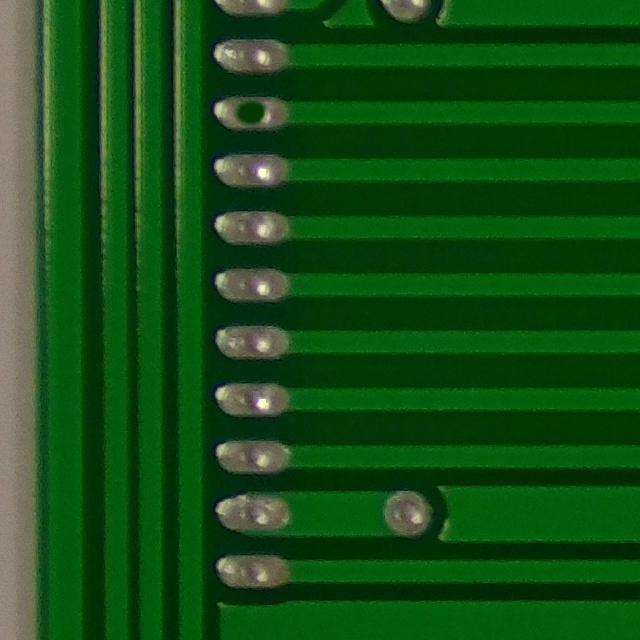missing_hole: (216, 83, 286, 142)
